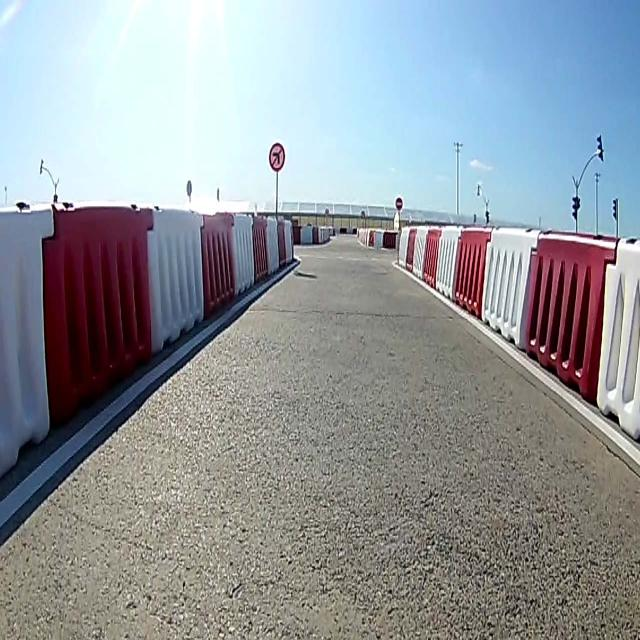girisyok: (394, 195, 404, 212)
soladonulmez: (270, 141, 284, 171)
